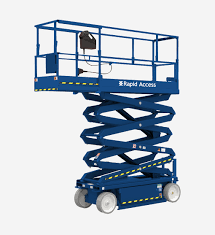Scissor Lift: (32, 19, 183, 214)
